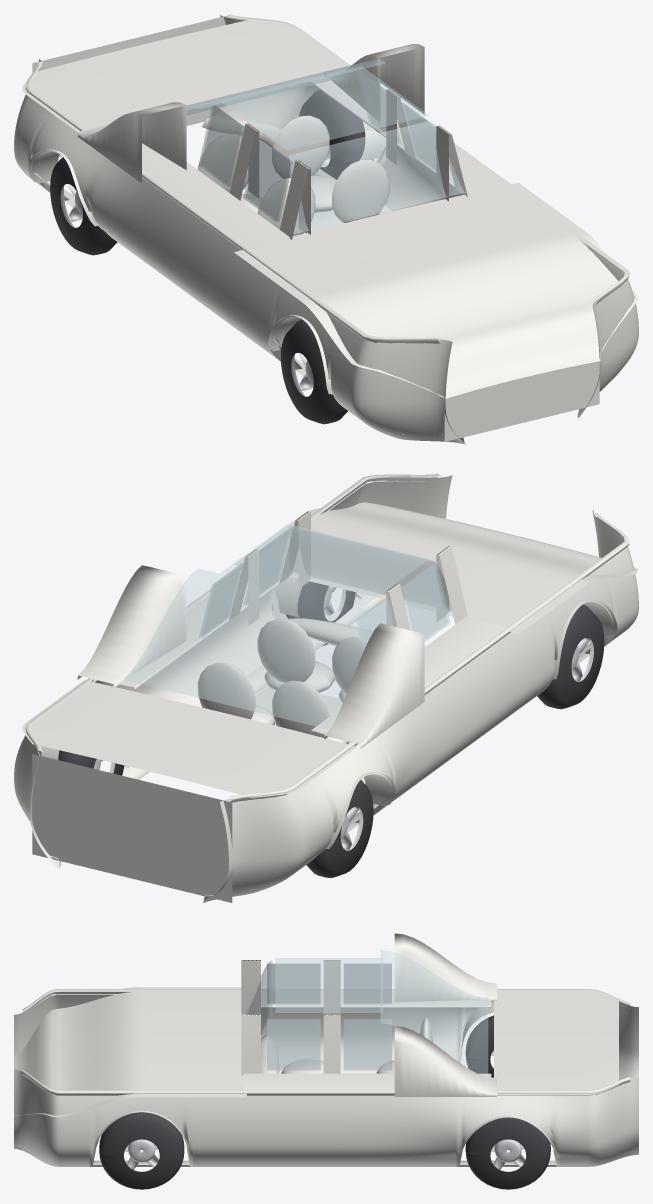
File: ev-sedan-shoulder.glb
3 views of the same model, one above another, from view 1: azimuth 30°, elevation 25°; view 2: azimuth 150°, elevation 25°; view 3: azimuth 270°, elevation 25° (orthographic). The views are drawn at different scales.
Parts seen in each view (by area): view 1: BodyHood, BodySide_L, BodyDeck, Windshield, RoofGlass, BodySide_R, BodyNose, BodyCPillar_L, BodyBeltShelf_L, BodyCPillar_R, BodyBeltShelf_R, WheelFLTire (+22 smaller); view 2: BodySide_L, RearWindow, BodyHood, BodyDeck, BodyFascia, BodySide_R, RoofGlass, BodyCPillar_R, BodyCPillar_L, Windshield, BodyBeltShelf_R, WheelFLTire (+23 smaller); view 3: BodySide_R, BodyHood, BodyDeck, BodySide_L, RearWindow, RoofGlass, BodyCPillar_R, BodyCPillar_L, WheelFRTire, WheelRRTire, SideWindowFR, BodyBeltShelf_R (+17 smaller).
Boxes of the visible parts, bbox=[...] form: BodyHood: bbox=[234, 183, 638, 398]; BodySide_L: bbox=[14, 59, 465, 444]; BodyDeck: bbox=[22, 20, 350, 131]; Windshield: bbox=[288, 120, 464, 234]; RoofGlass: bbox=[220, 66, 428, 150]; BodySide_R: bbox=[201, 15, 638, 417]; BodyNose: bbox=[444, 361, 599, 441]; BodyCPillar_L: bbox=[77, 102, 186, 183]; BodyBeltShelf_L: bbox=[142, 143, 289, 248]; BodyCPillar_R: bbox=[324, 44, 424, 121]; BodyBeltShelf_R: bbox=[311, 78, 506, 193]; WheelFLTire: bbox=[281, 319, 347, 424]; BodySide_L: bbox=[204, 509, 638, 902]; RearWindow: bbox=[122, 568, 385, 728]; BodyHood: bbox=[234, 502, 638, 633]; BodyDeck: bbox=[22, 680, 357, 797]; BodyFascia: bbox=[32, 754, 232, 902]; BodySide_R: bbox=[14, 475, 452, 869]; RoofGlass: bbox=[220, 524, 428, 607]; BodyCPillar_R: bbox=[77, 565, 186, 687]; BodyCPillar_L: bbox=[324, 623, 424, 748]; Windshield: bbox=[289, 526, 451, 611]; BodyBeltShelf_R: bbox=[92, 568, 281, 689]; WheelFLTire: bbox=[537, 604, 604, 709]; BodySide_R: bbox=[14, 1069, 638, 1166]; BodyHood: bbox=[14, 987, 246, 1117]; BodyDeck: bbox=[494, 991, 618, 1094]; BodySide_L: bbox=[14, 992, 638, 1080]; RearWindow: bbox=[380, 950, 487, 1076]; RoofGlass: bbox=[275, 958, 382, 1012]; BodyCPillar_R: bbox=[394, 1025, 496, 1096]; BodyCPillar_L: bbox=[394, 933, 496, 1002]; WheelFRTire: bbox=[99, 1112, 184, 1189]; WheelRRTire: bbox=[465, 1117, 550, 1189]; SideWindowFR: bbox=[267, 1019, 320, 1070]; BodyBeltShelf_R: bbox=[244, 1073, 491, 1090].
Size of the model in its own units: 2.03 by 1.2 by 4.4.
